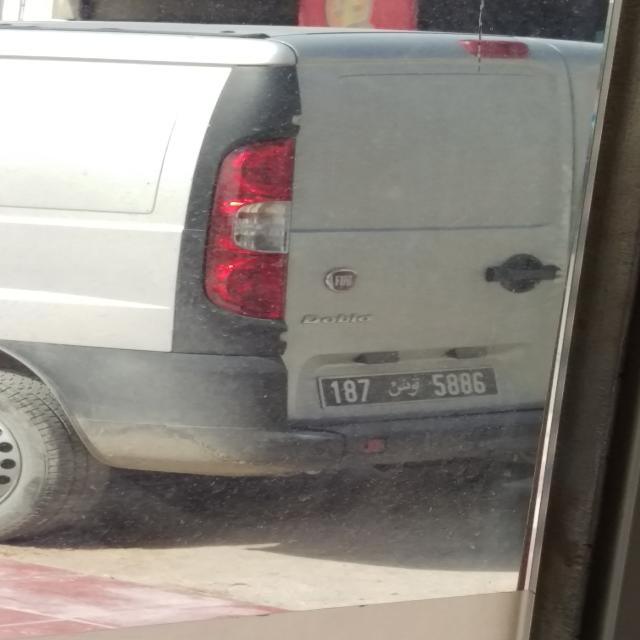LP: (309, 366, 504, 412)
